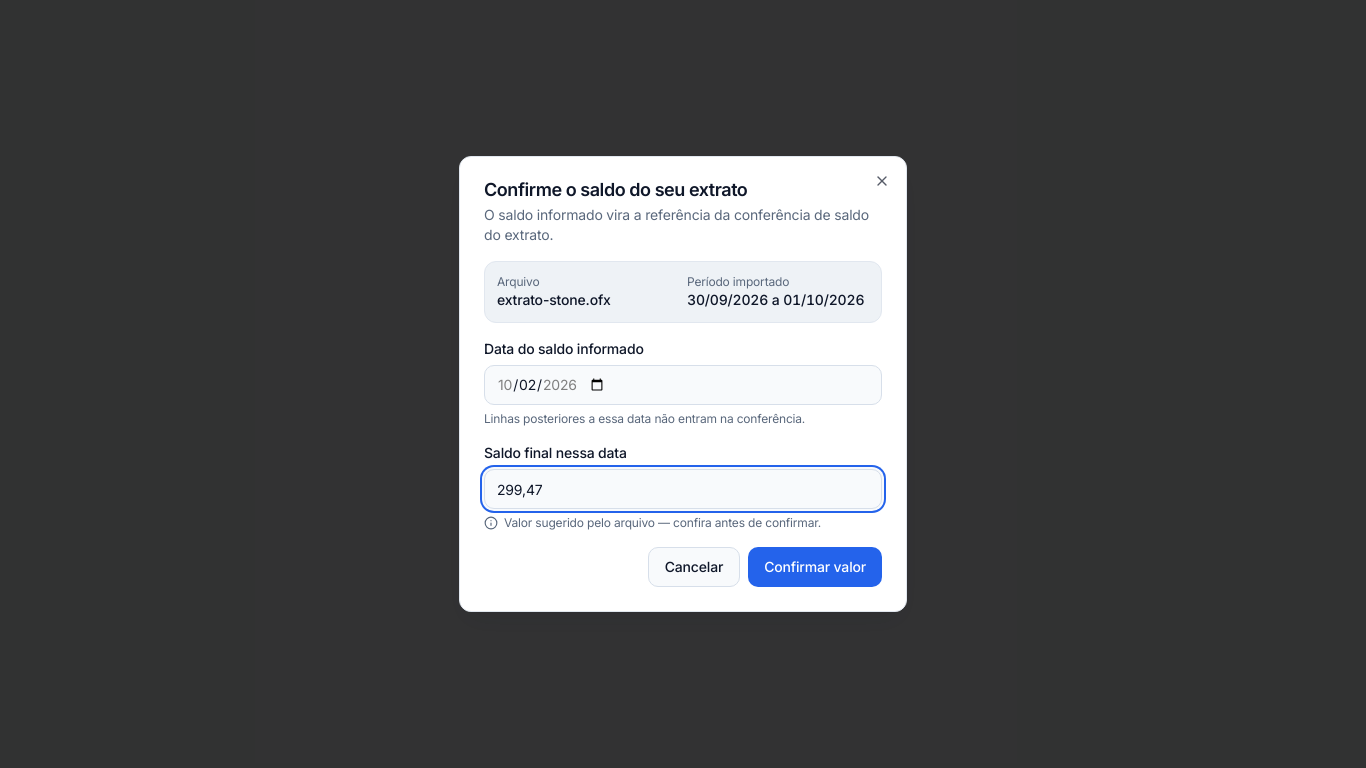
ConfirmarSaldoExtratoDialog — saldo inicial cadastrado com o saldo de hoje › sem leitura de lançamentos, não sugere — lista vazia pela RLS não prova conta sem histórico
Expected: the field labelled "Saldo final nessa data" holds "299,47", [484,469,882,509]
Click the button "Confirmar valor" at (815,567), box [748,547,882,587]
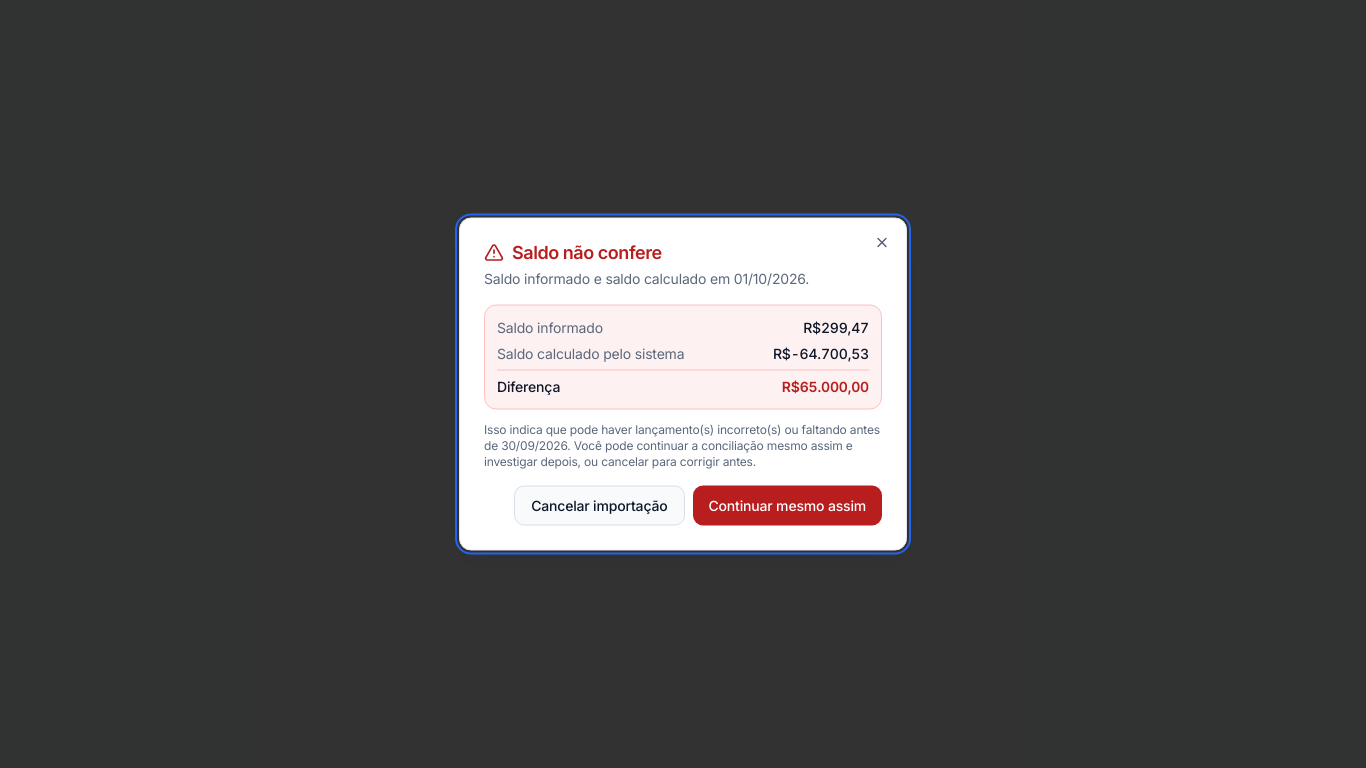
Now the text "pode haver lançamento(s) incorreto(s)" is shown, box [484,422,880,452]
